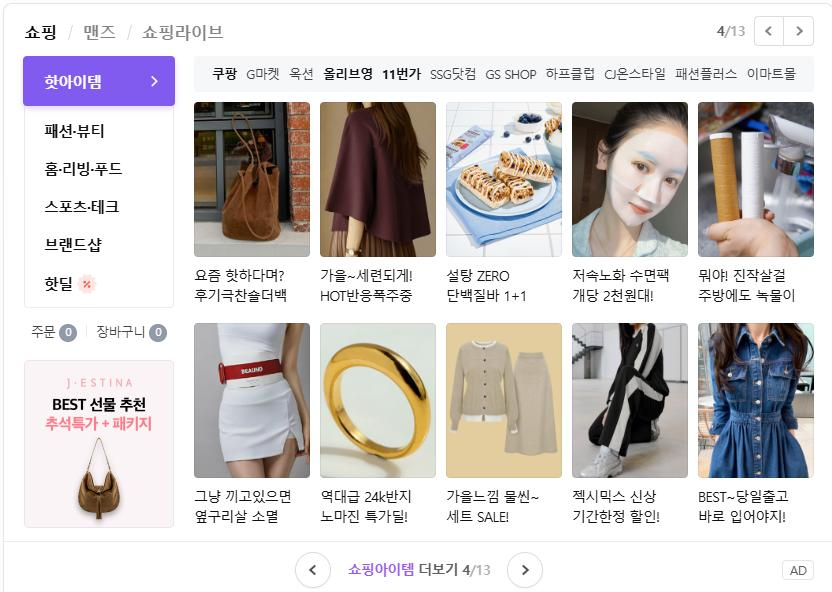button: (25, 56, 175, 107), (139, 16, 227, 49), (94, 317, 176, 351), (36, 271, 120, 302), (37, 118, 118, 150), (37, 196, 132, 222), (39, 159, 143, 181), (751, 15, 818, 46), (44, 233, 118, 258), (27, 318, 88, 348), (290, 550, 334, 589), (673, 61, 740, 86), (507, 549, 545, 591), (603, 62, 667, 86), (483, 62, 539, 87), (745, 62, 800, 87), (543, 62, 599, 86), (323, 62, 378, 86), (79, 19, 121, 50), (429, 63, 480, 87), (21, 20, 61, 48), (381, 62, 425, 86), (285, 61, 320, 86), (247, 61, 282, 86), (206, 61, 241, 86)
popup: (22, 356, 176, 535), (779, 557, 817, 583)
